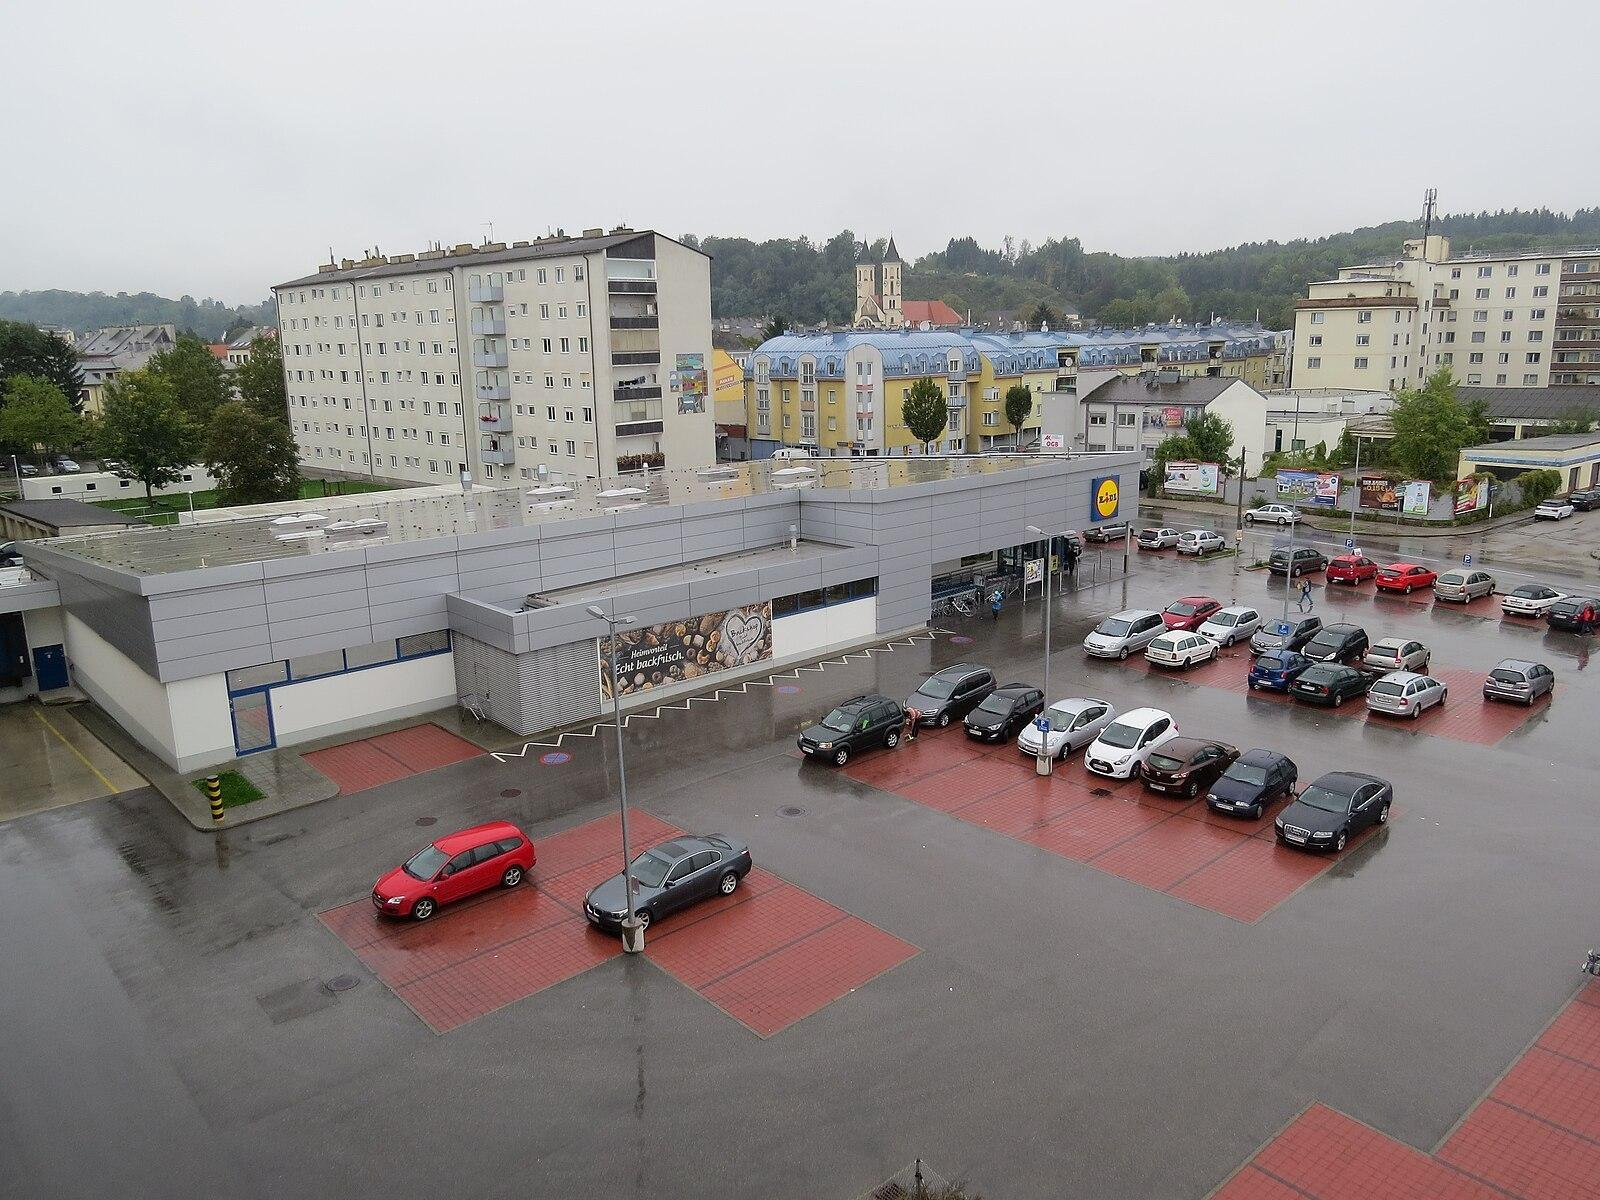Car: (580, 826, 756, 945), (370, 821, 538, 920), (1275, 771, 1392, 851), (797, 695, 905, 766), (1083, 708, 1178, 779), (1206, 749, 1296, 818), (1135, 737, 1238, 798), (905, 664, 997, 727), (1018, 700, 1112, 759), (964, 684, 1044, 742), (1083, 610, 1167, 659), (1290, 662, 1376, 707), (1367, 671, 1448, 718), (1484, 659, 1553, 706), (1247, 647, 1314, 695), (1250, 614, 1322, 655), (1197, 606, 1262, 649), (1301, 624, 1368, 666), (1146, 630, 1217, 669), (1363, 638, 1430, 677), (1500, 584, 1565, 619), (1162, 596, 1222, 632), (1432, 568, 1494, 603), (1546, 596, 1599, 634), (1267, 546, 1327, 577), (1377, 563, 1437, 592), (1327, 553, 1377, 586), (1243, 503, 1304, 527), (1175, 529, 1230, 556), (1136, 529, 1178, 551), (1081, 523, 1125, 543), (1534, 499, 1575, 521), (1566, 488, 1600, 511), (1057, 532, 1083, 558), (47, 456, 79, 475), (15, 464, 40, 478)
